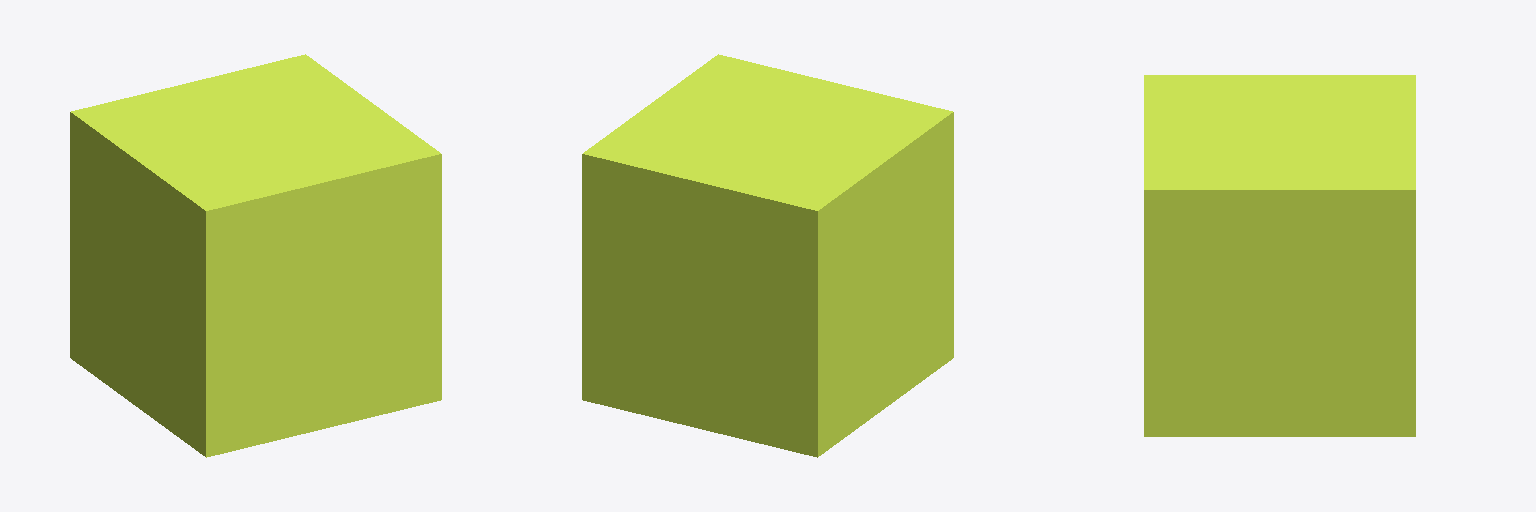
3 views of the same model, side by side, from view 1: azimuth 30°, elevation 25°; view 2: azimuth 150°, elevation 25°; view 3: azimuth 270°, elevation 25° (orthographic).
Visible parts, largest first — view 1: Cube; view 2: Cube; view 3: Cube.
Boxes of the visible parts, <box> form: Cube: <box>70,54,441,457</box>; Cube: <box>582,54,953,457</box>; Cube: <box>1144,75,1415,436</box>.
Bounding box in the file's own units: 2 × 2 × 2.
Materials: 1 (1 with a texture image).